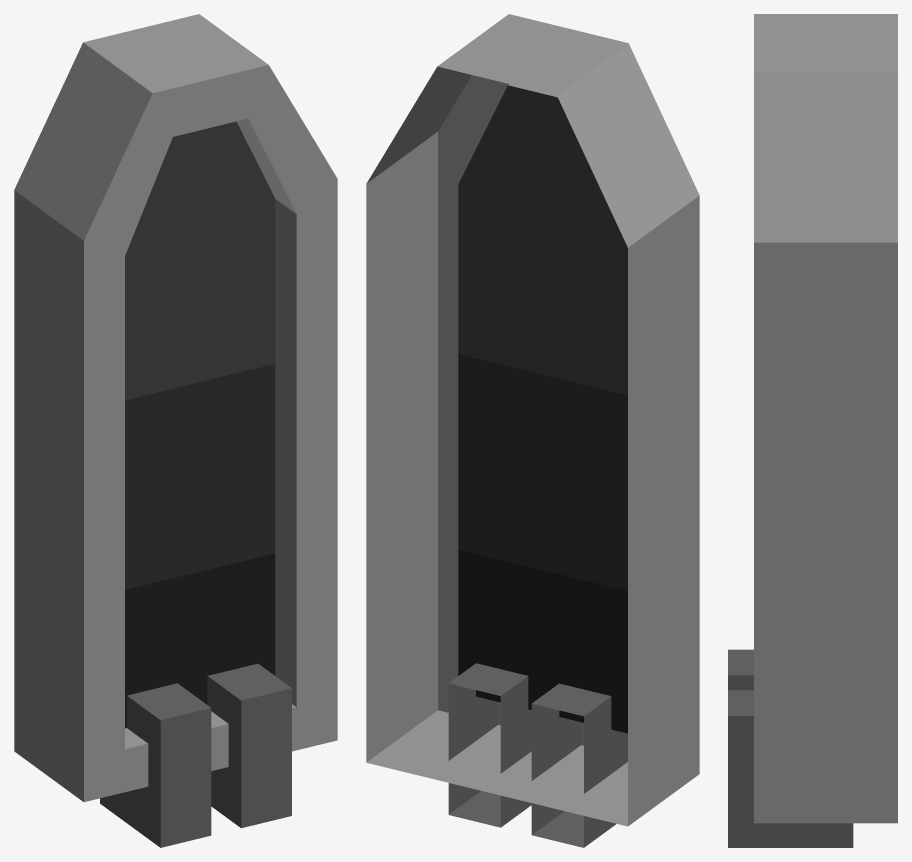
The model's file is window_A.FBX.
The picture shows the model from 3 angles, left to right: view 1: azimuth 30°, elevation 25°; view 2: azimuth 150°, elevation 25°; view 3: azimuth 270°, elevation 25°; orthographic projection. The views are drawn at different scales.
Parts seen in each view (by area): view 1: window_A, window_A_glass; view 2: window_A, window_A_glass; view 3: window_A.
Part boxes in pixels (left/top/right/bottom): window_A: left=14, top=14, right=337, bottom=847; window_A_glass: left=125, top=121, right=275, bottom=728; window_A: left=366, top=14, right=699, bottom=847; window_A_glass: left=458, top=85, right=627, bottom=733; window_A: left=728, top=14, right=897, bottom=847.
Bounding box in the file's own units: 84.68 × 237 × 47.42.
